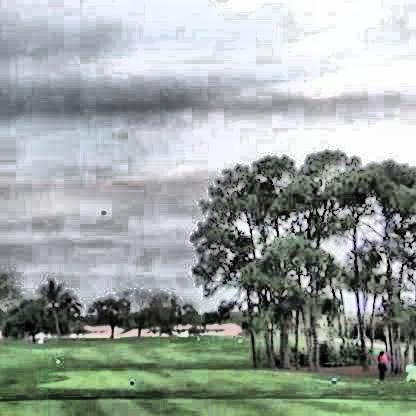golfball: (99, 207, 104, 213)
